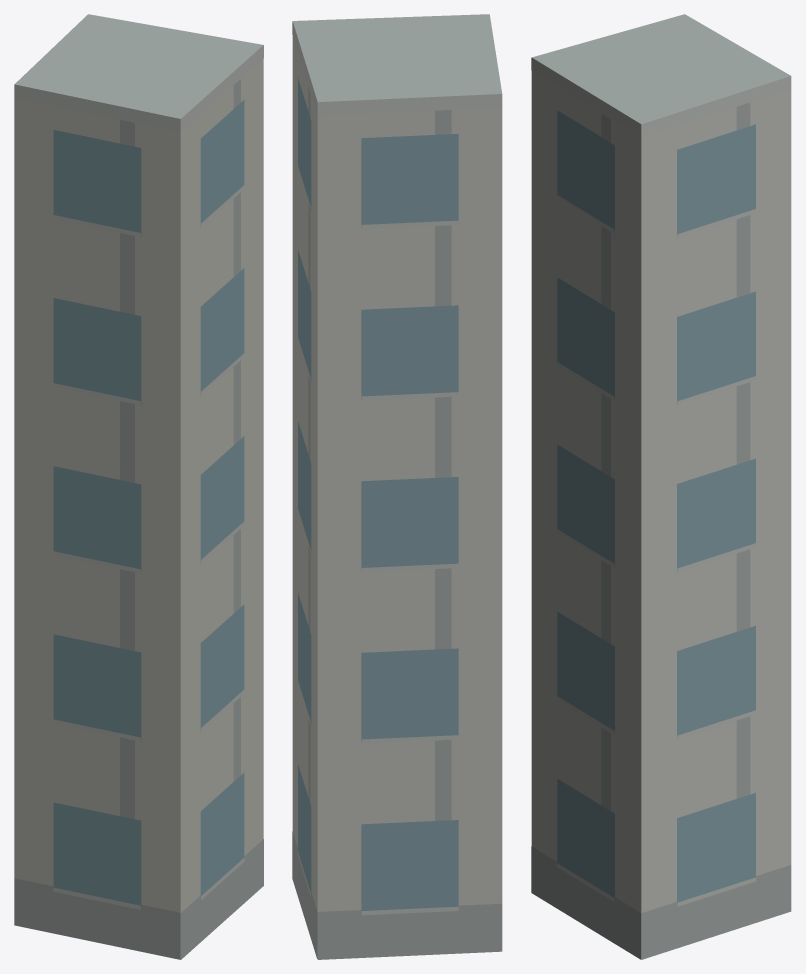
The model's file is survey-upis-32660705.glb.
3 views of the same model, side by side, from view 1: azimuth 30°, elevation 25°; view 2: azimuth 150°, elevation 25°; view 3: azimuth 270°, elevation 25° (orthographic). The views are drawn at different scales.
Visible parts, largest first — view 1: survey-upis-32660705.tmp; view 2: survey-upis-32660705.tmp; view 3: survey-upis-32660705.tmp.
Boxes of the visible parts, x1=… form: survey-upis-32660705.tmp: x1=14, y1=14, x2=263, y2=959; survey-upis-32660705.tmp: x1=292, y1=14, x2=502, y2=959; survey-upis-32660705.tmp: x1=531, y1=14, x2=791, y2=959.
Bounding box in the file's own units: 4.32 × 15.25 × 4.3.
